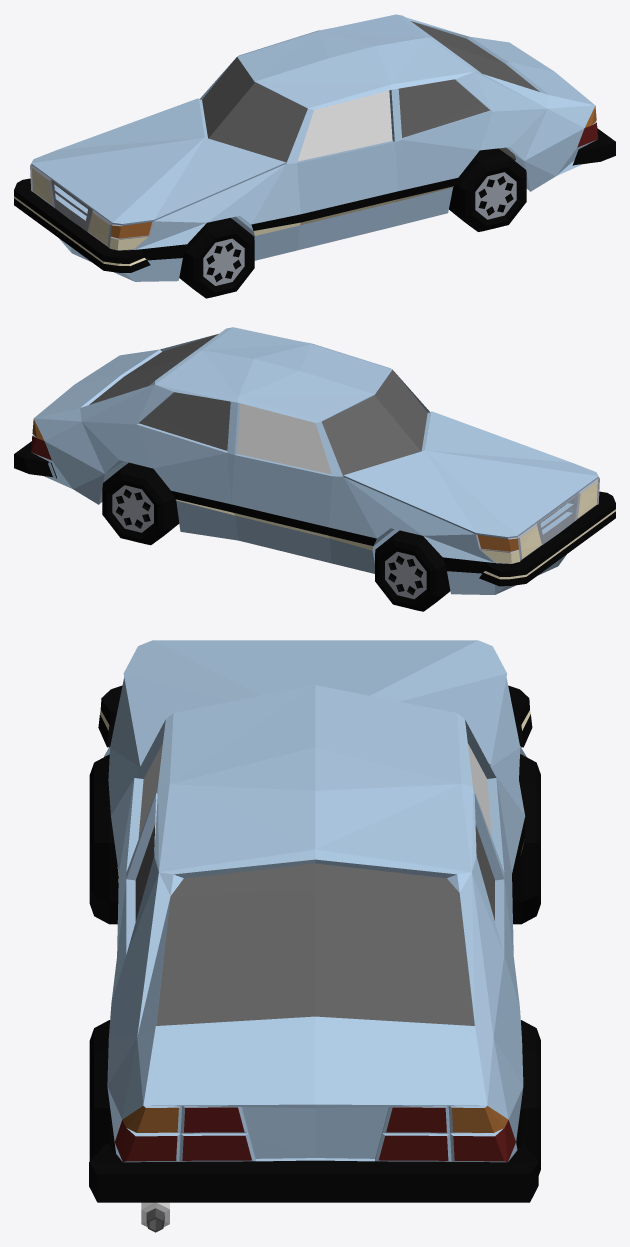
The model's file is Car_1.fbx.
3 views of the same model, one above another, from view 1: azimuth 30°, elevation 25°; view 2: azimuth 150°, elevation 25°; view 3: azimuth 270°, elevation 25° (orthographic). The views are drawn at different scales.
Visible parts, largest first — view 1: car body.008, front wheels.019, front wheels.021; view 2: car body.008, front wheels.019, front wheels.021; view 3: car body.008, front wheels.021, front wheels.019.
Part boxes in pixels (left/top/right/bottom): car body.008: left=14, top=14, right=615, bottom=281; front wheels.019: left=449, top=148, right=526, bottom=231; front wheels.021: left=179, top=218, right=254, bottom=298; car body.008: left=14, top=327, right=615, bottom=594; front wheels.019: left=102, top=462, right=179, bottom=545; front wheels.021: left=375, top=530, right=450, bottom=611; car body.008: left=89, top=640, right=538, bottom=1202; front wheels.021: left=89, top=754, right=540, bottom=924; front wheels.019: left=89, top=1020, right=540, bottom=1175.
Size of the model in its own units: 11289 by 3419 by 4353.
